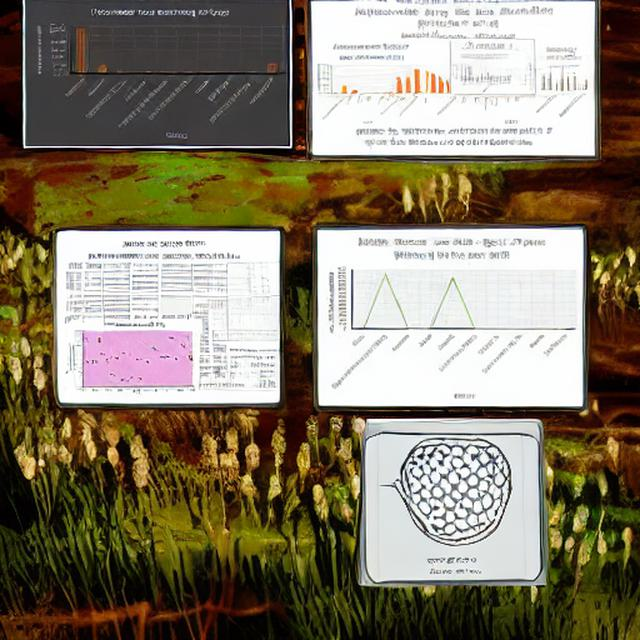Graph: (326, 233, 580, 404), (30, 2, 289, 146), (67, 322, 198, 399), (315, 54, 424, 126), (452, 55, 514, 91), (220, 302, 277, 336), (538, 64, 591, 95)
